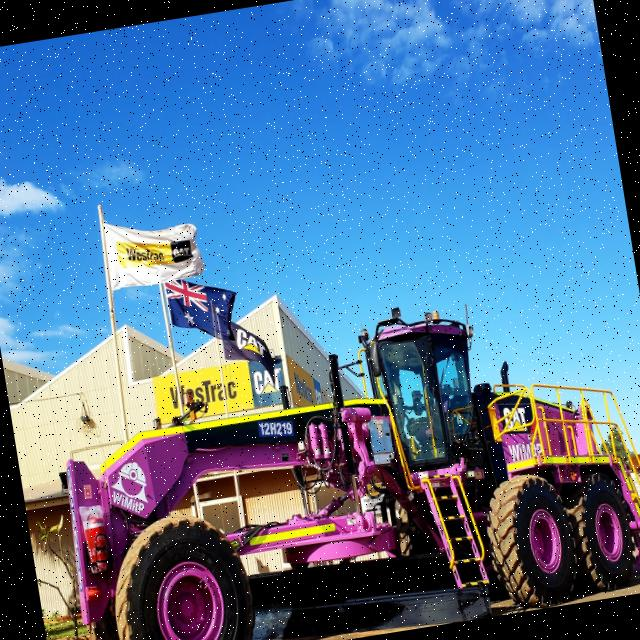Grader: (35, 265, 640, 640)
